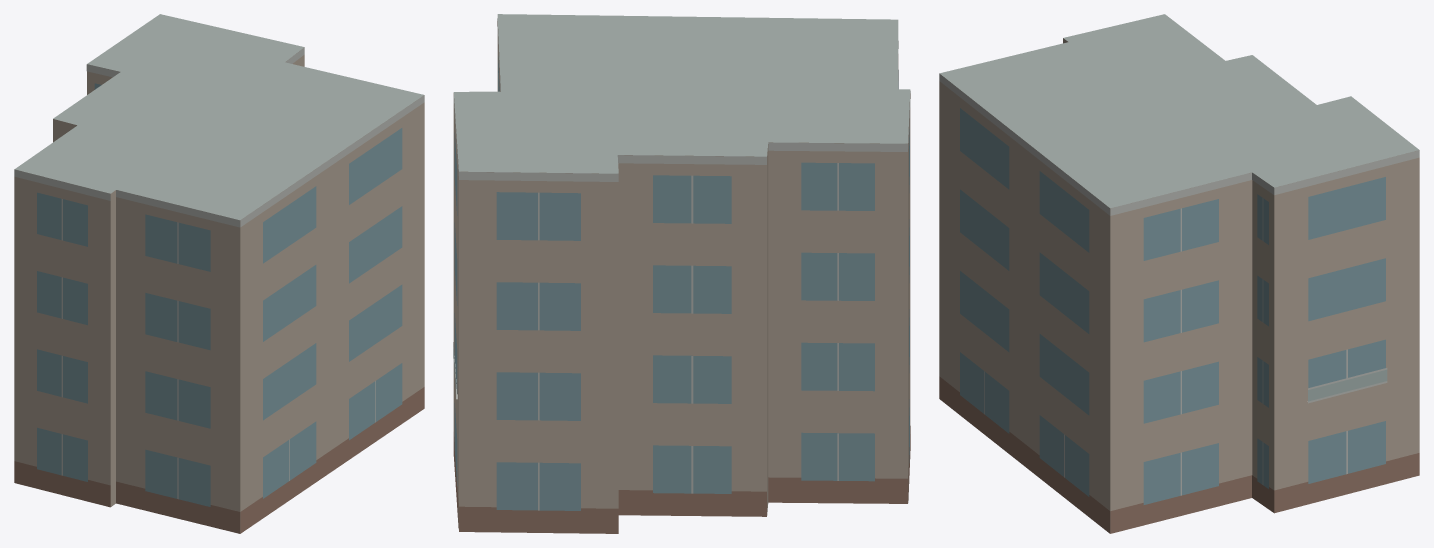
The model's file is survey-upis-32457145.glb.
3 views of the same model, side by side, from view 1: azimuth 30°, elevation 25°; view 2: azimuth 150°, elevation 25°; view 3: azimuth 270°, elevation 25° (orthographic). The views are drawn at different scales.
Parts seen in each view (by area): view 1: survey-upis-32457145.tmp; view 2: survey-upis-32457145.tmp; view 3: survey-upis-32457145.tmp.
Boxes of the visible parts, x1,y1,x2,y2 form: survey-upis-32457145.tmp: (14,14,424,533); survey-upis-32457145.tmp: (453,14,910,533); survey-upis-32457145.tmp: (939,14,1419,533).
Bounding box in the file's own units: 13.46 × 10.5 × 14.05.
